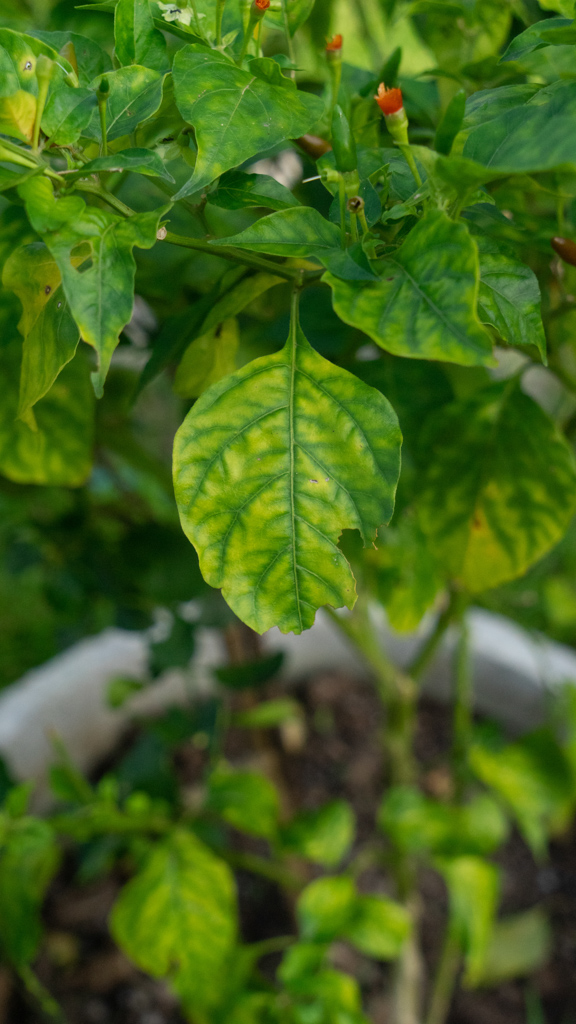frog-eye leafspot: (468, 504, 489, 536), (19, 56, 36, 75), (382, 269, 400, 285), (41, 282, 55, 298)
